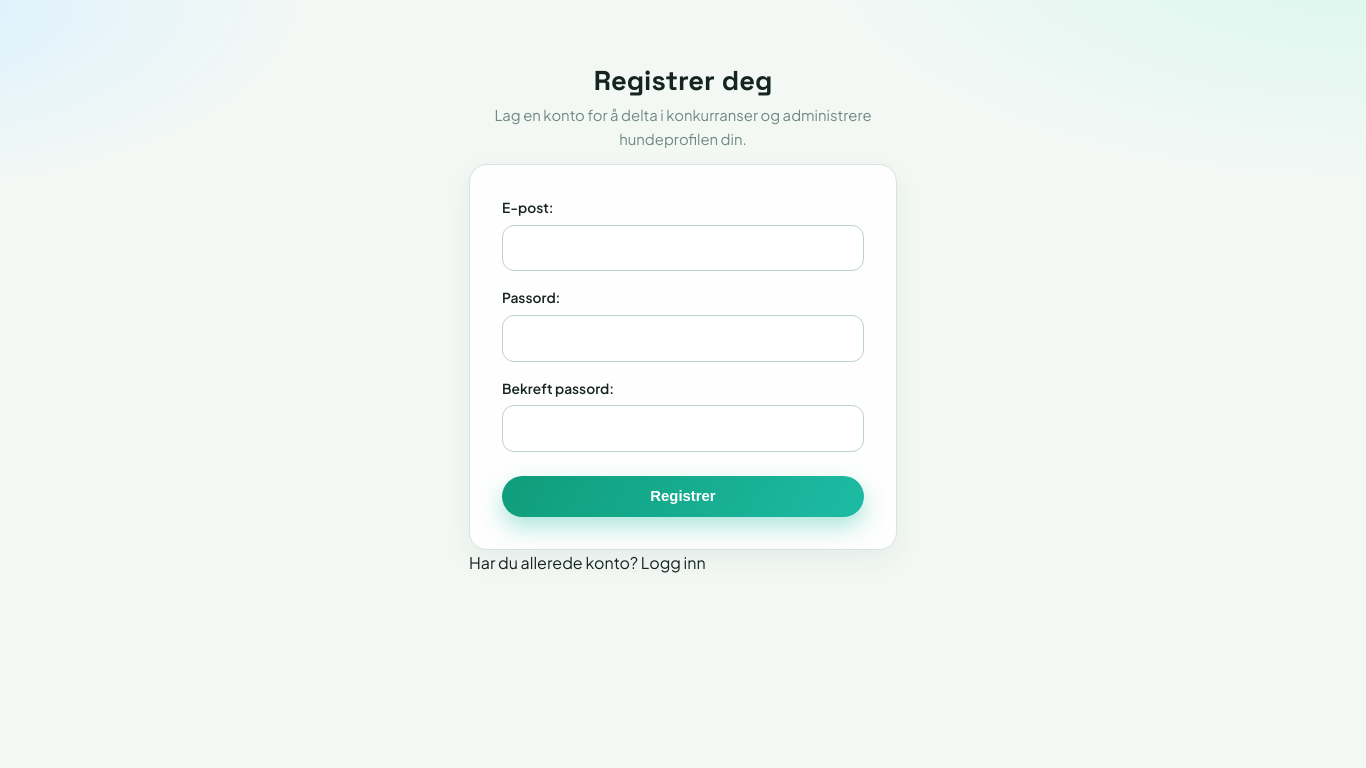
RegisterView › submits valid registration and redirects home
Type "thor@example.com" into the field with id "email".
click(683, 248); type("thor@example.com")  # box [502,225,864,271]
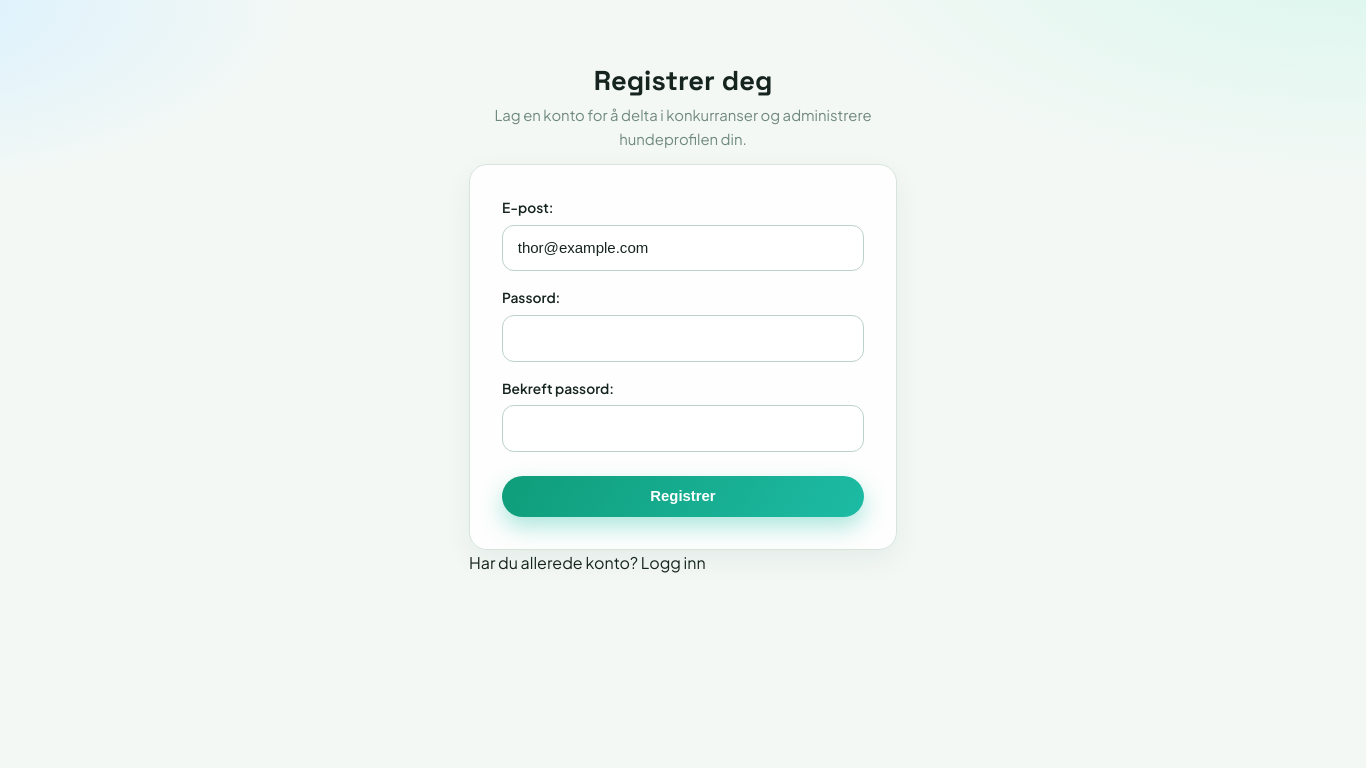
Type "secret" into the password field labelled "Passord:".
click(683, 338); type("secret")  # box [502,315,864,362]
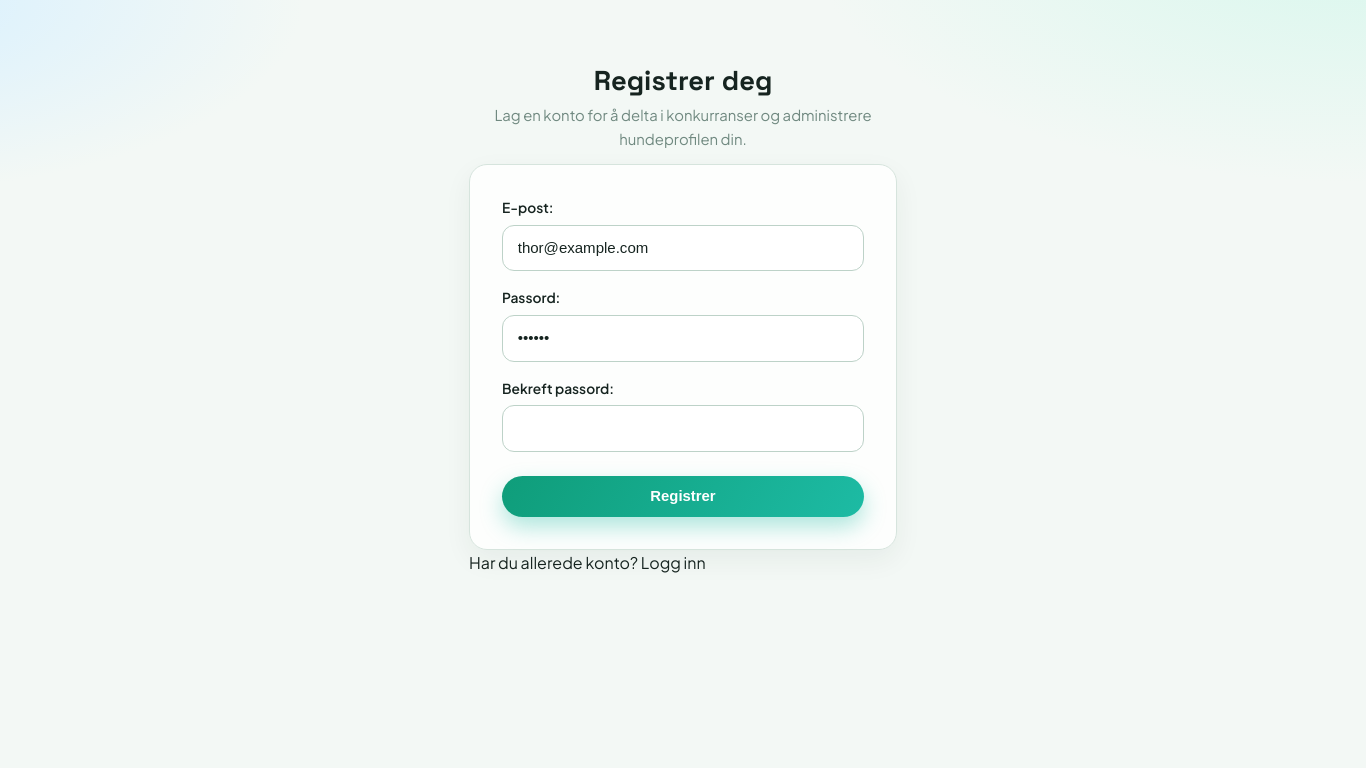
Type "secret" into the password field with id "confirmPassword".
click(683, 429); type("secret")  # box [502,406,864,452]
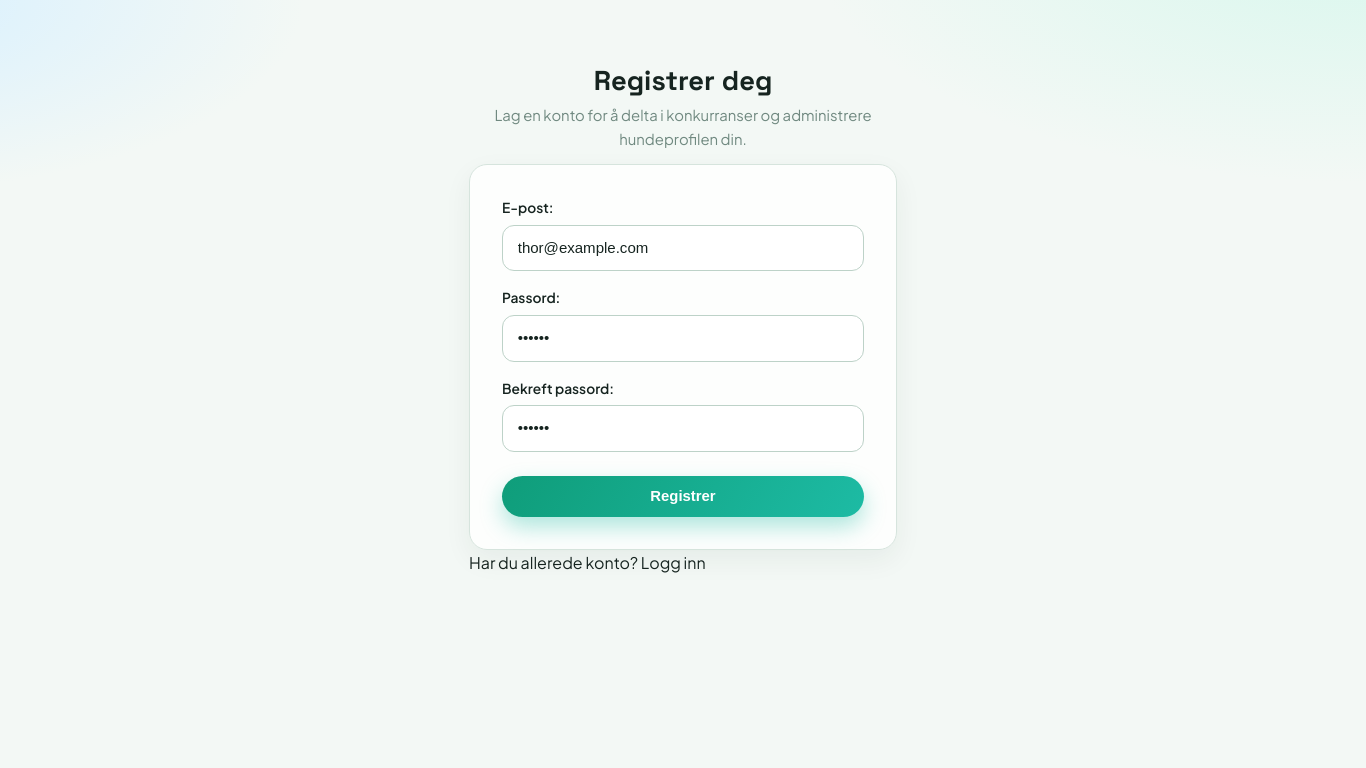
Submit the form, box [469,164,897,550]
Wait 1500 ms
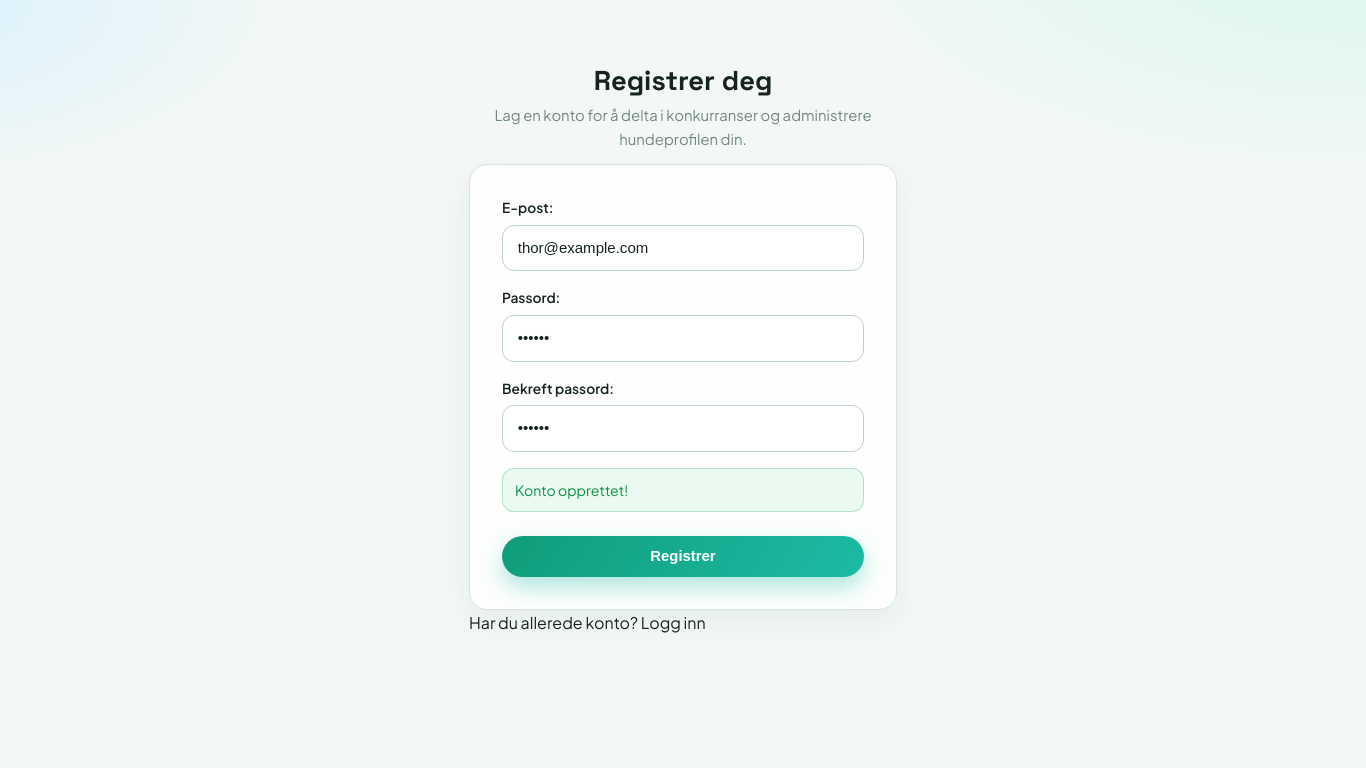
Expected: the text "Konto opprettet!" is shown, [502,468,864,512]
